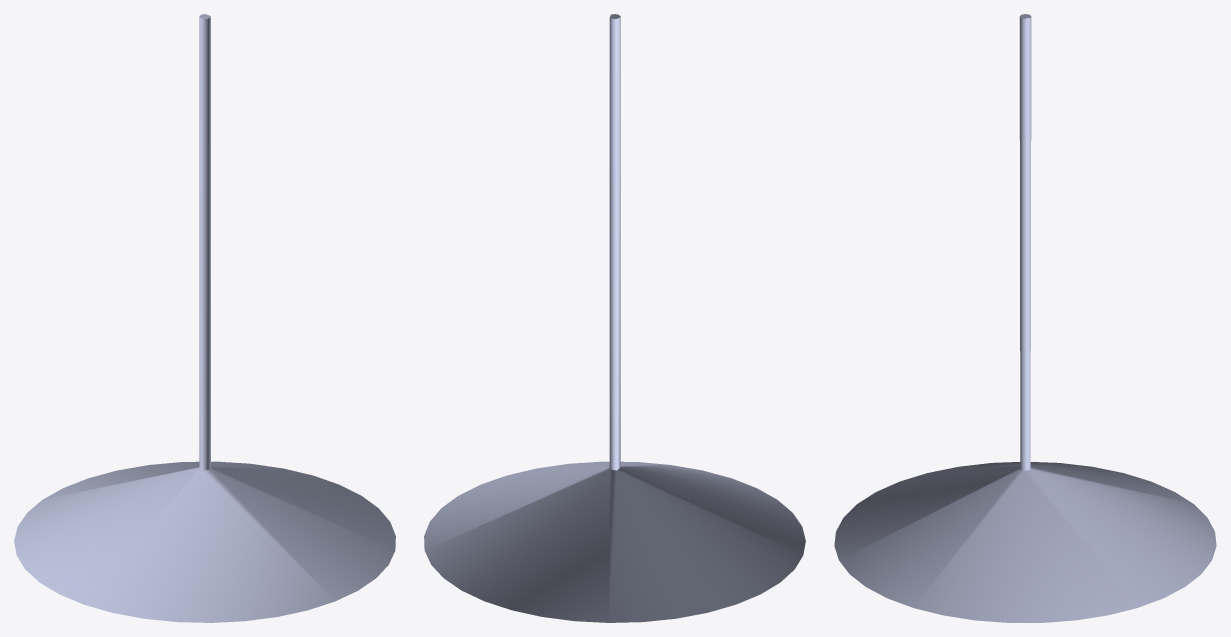
File: light.obj
3 renders of one model, left to right at view 1: azimuth 30°, elevation 25°; view 2: azimuth 150°, elevation 25°; view 3: azimuth 270°, elevation 25°, orthographic.
Parts seen in each view (by area): view 1: Revolve1; view 2: Revolve1; view 3: Revolve1.
Part boxes in pixels (box(x1,y1,x2,y2)): Revolve1: box(14, 14, 395, 622); Revolve1: box(424, 14, 805, 622); Revolve1: box(834, 14, 1216, 622).
Bounding box in the file's own units: 0.9572 × 1.45 × 0.9582.
